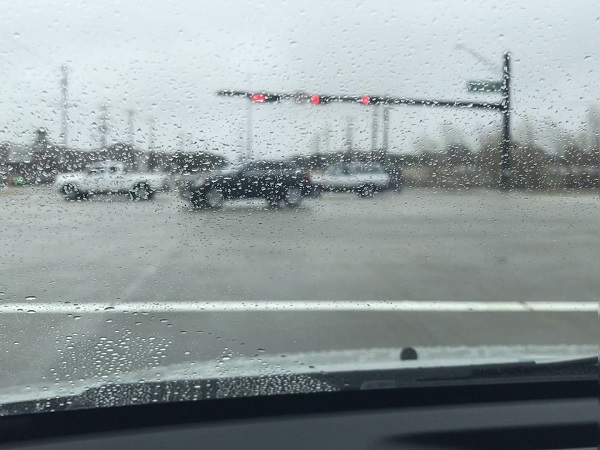car: (179, 162, 317, 212), (310, 162, 389, 198)
traffic light: (248, 88, 265, 103), (307, 94, 323, 107), (355, 96, 371, 105)
truck: (51, 158, 172, 200)
